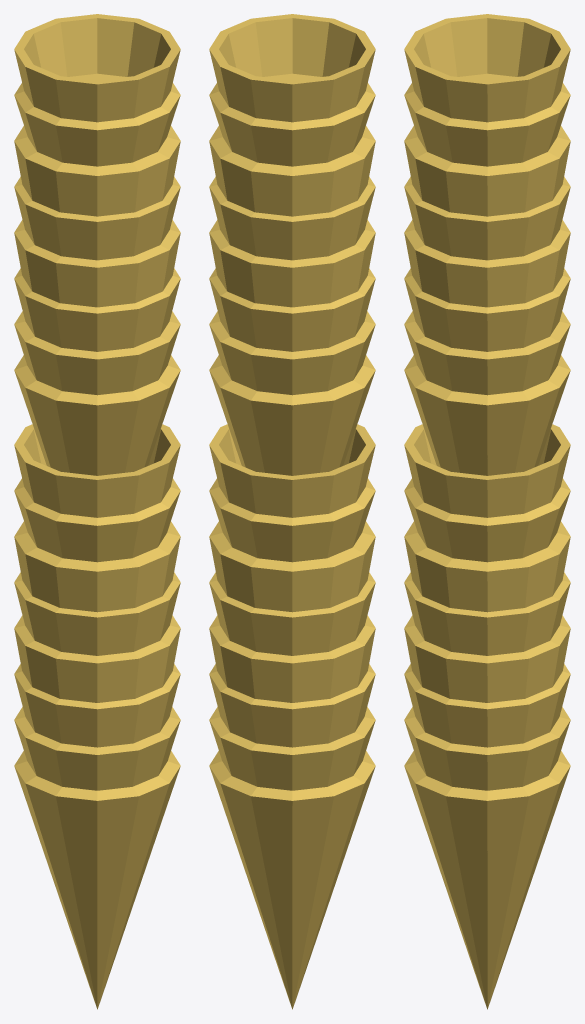
File: Ice_cream_cone.fbx
The picture shows the model from 3 angles, left to right: view 1: azimuth 30°, elevation 25°; view 2: azimuth 150°, elevation 25°; view 3: azimuth 270°, elevation 25°; orthographic projection.
Parts seen in each view (by area): view 1: Ice_cream_cone; view 2: Ice_cream_cone; view 3: Ice_cream_cone.
Part boxes in pixels (x1,y1,x2,y2): Ice_cream_cone: [14, 14, 180, 1009]; Ice_cream_cone: [209, 14, 375, 1009]; Ice_cream_cone: [404, 14, 570, 1009].
Size of the model in its own units: 11.91 by 75.75 by 11.91.
